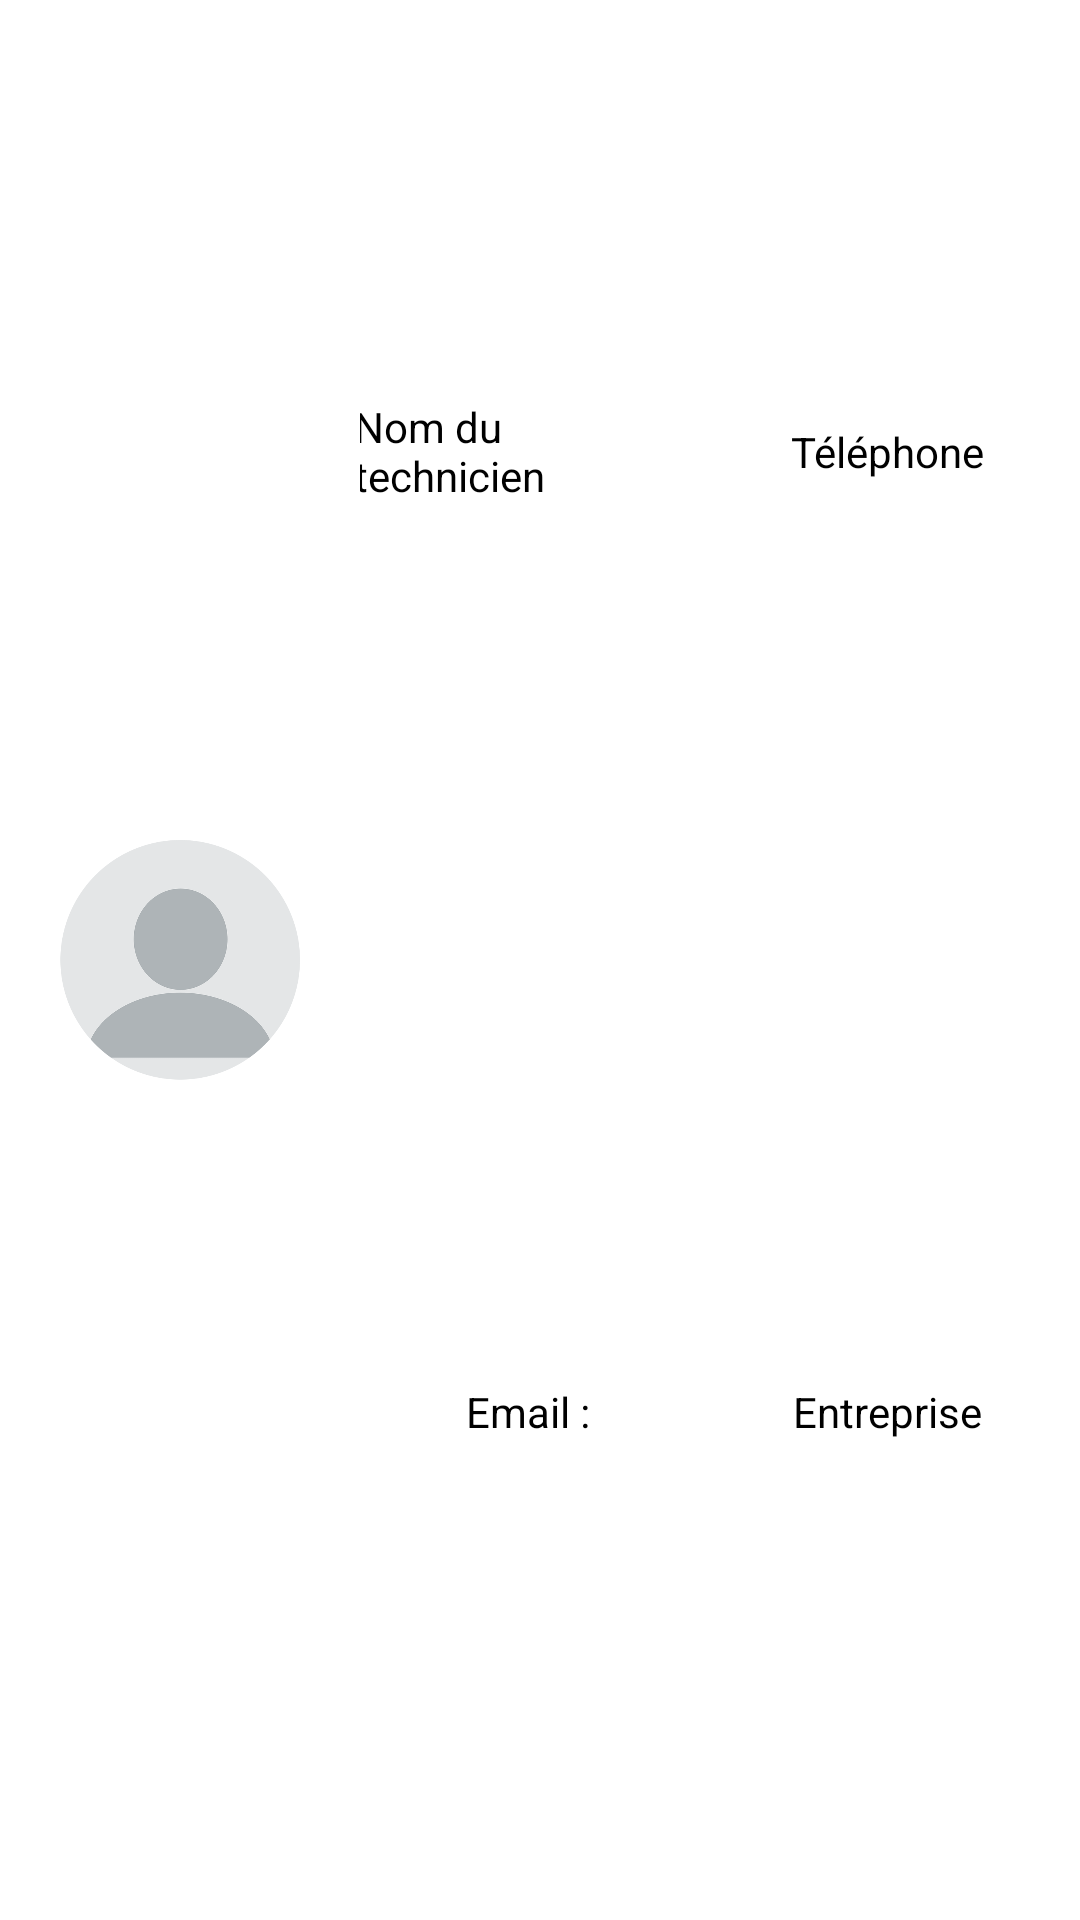

Where icons sit on this 1080 × 1920 app screen, as detection(x1, y1, x2, y2):
Profil image: detection(61, 840, 300, 1079)
